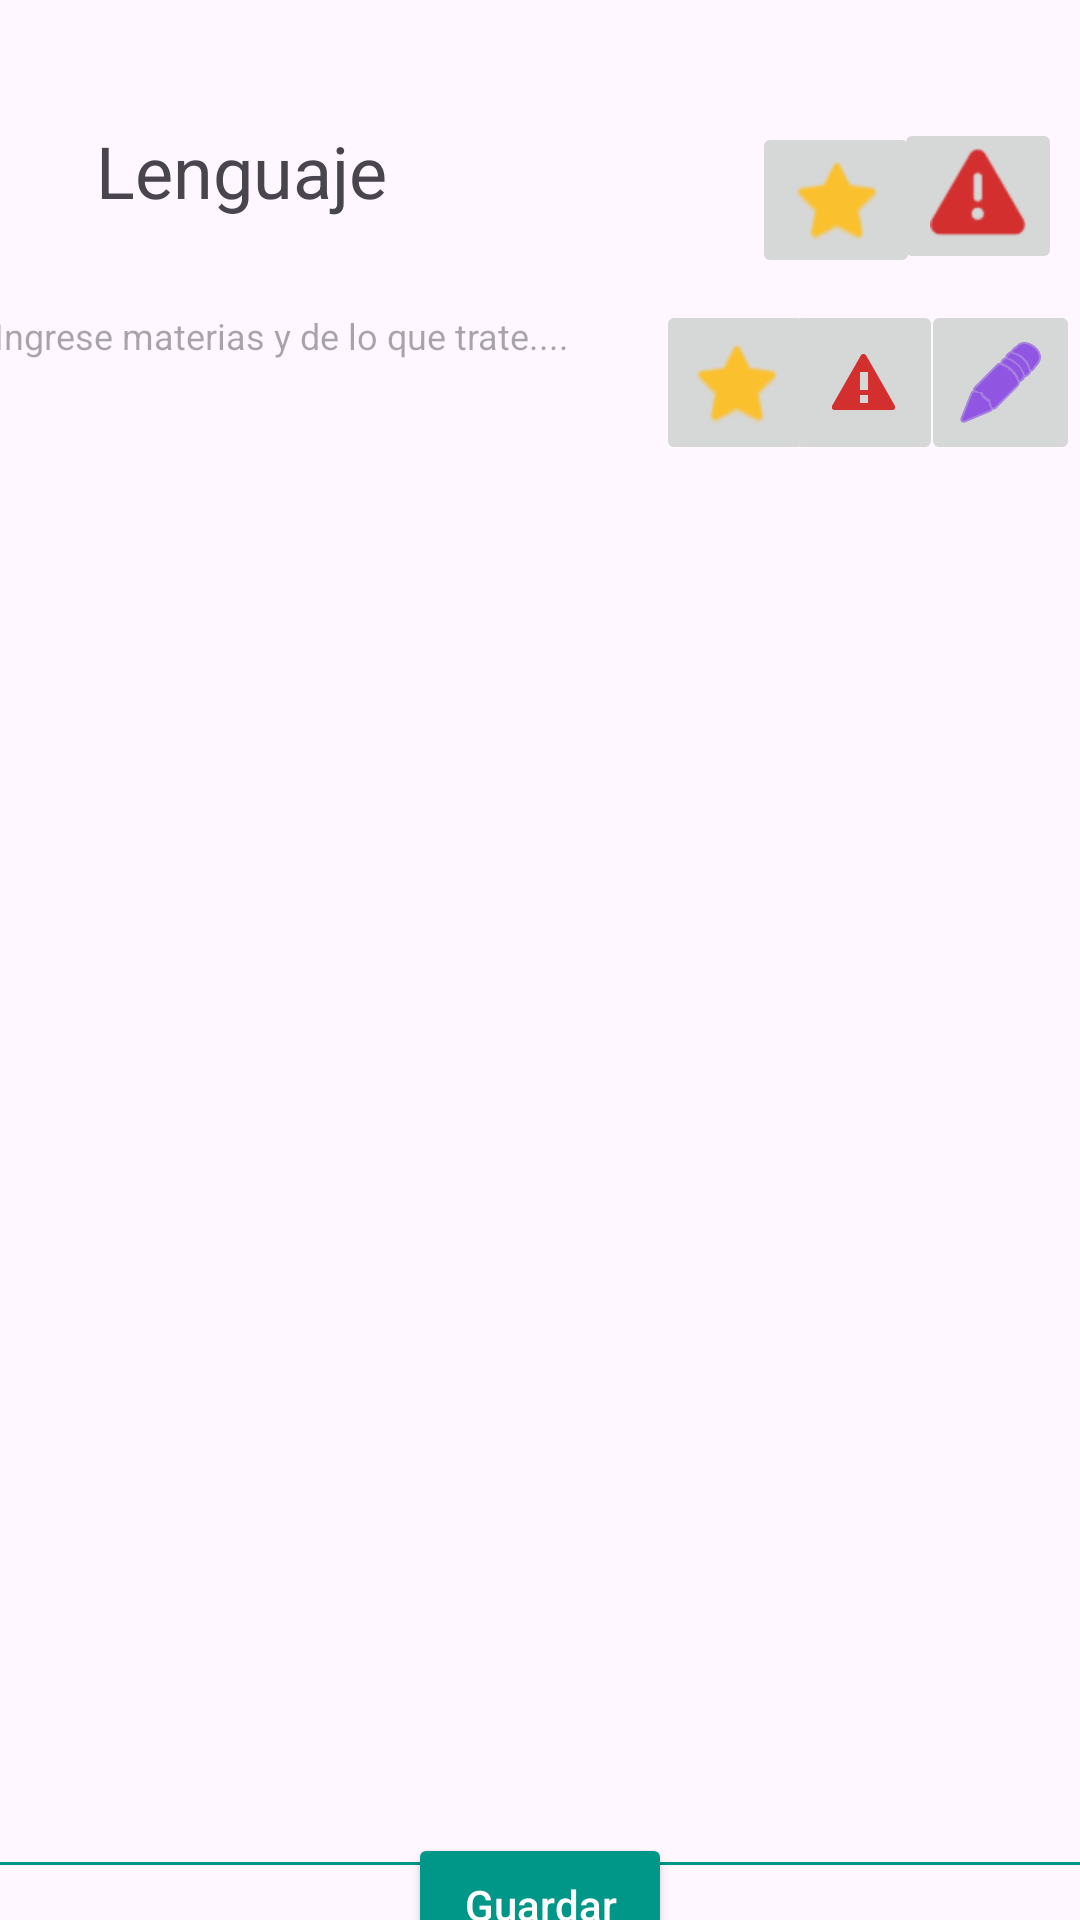

Locate icon controls on the screen. Image size 1080x1920, boxes as (x1, y1, x2, y2).
edit: (933, 318, 1068, 447)
